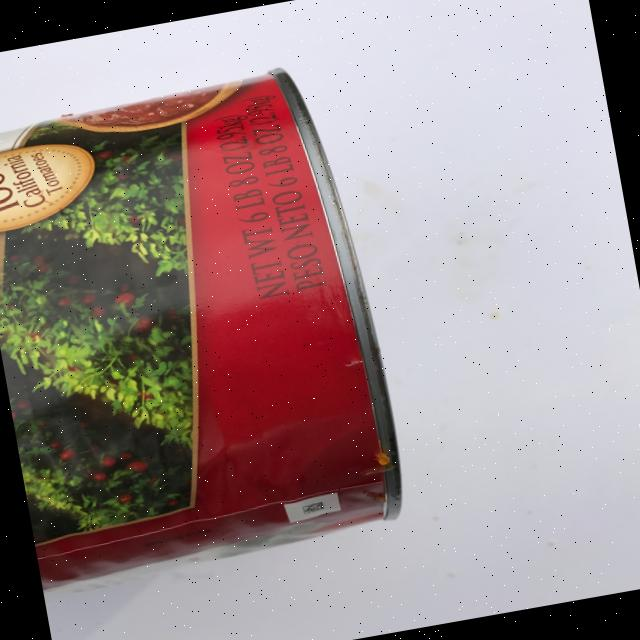metal: (0, 58, 413, 590)
